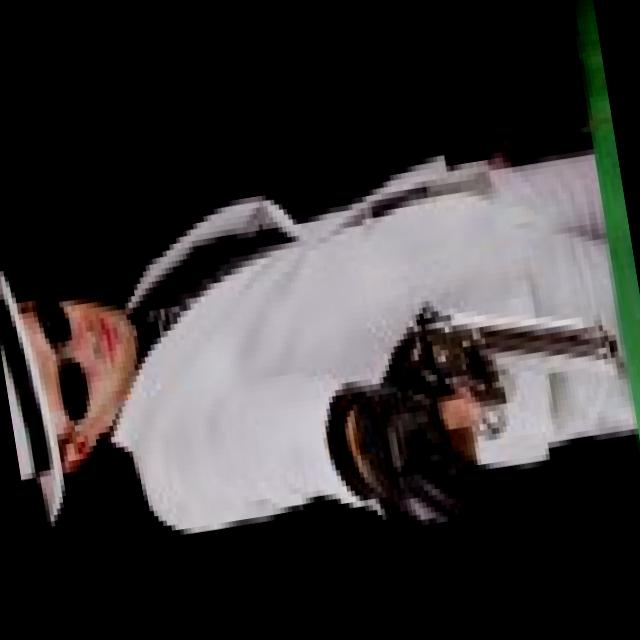handgun: (374, 262, 625, 476)
